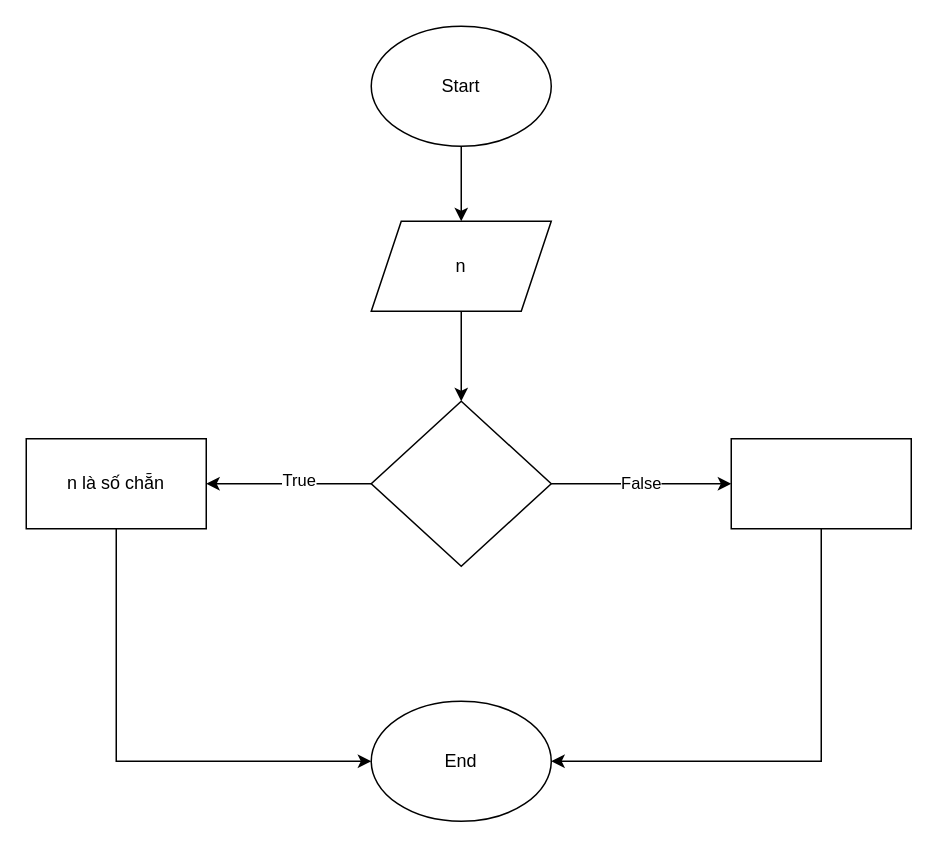
Some shapes in this 938 by 848 pixel diagram are drawn without their labels. The centre of each missing label's shape, as x and y in pixels:
"n % 2 == 0" goes at point 460,483.
"n là số lẻ" goes at point 820,483.
